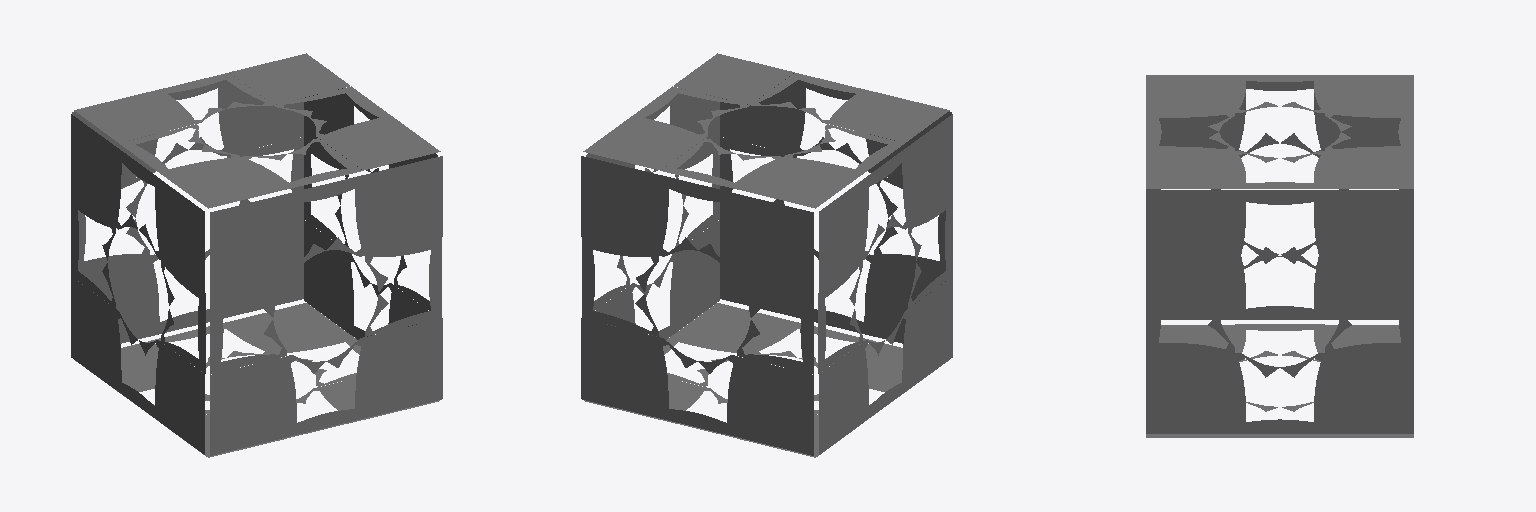
Rendered from PlayerObjectV1.obj.
3 renders of one model, left to right at view 1: azimuth 30°, elevation 25°; view 2: azimuth 150°, elevation 25°; view 3: azimuth 270°, elevation 25°, orthographic.
Visible parts, largest first — view 1: pPlane11; view 2: pPlane11; view 3: pPlane11.
Boxes of the visible parts, x1=… form: pPlane11: x1=71, y1=53, x2=442, y2=457; pPlane11: x1=581, y1=53, x2=952, y2=457; pPlane11: x1=1146, y1=75, x2=1413, y2=437.
Bounding box in the file's own units: 3.04 × 3.07 × 3.07.